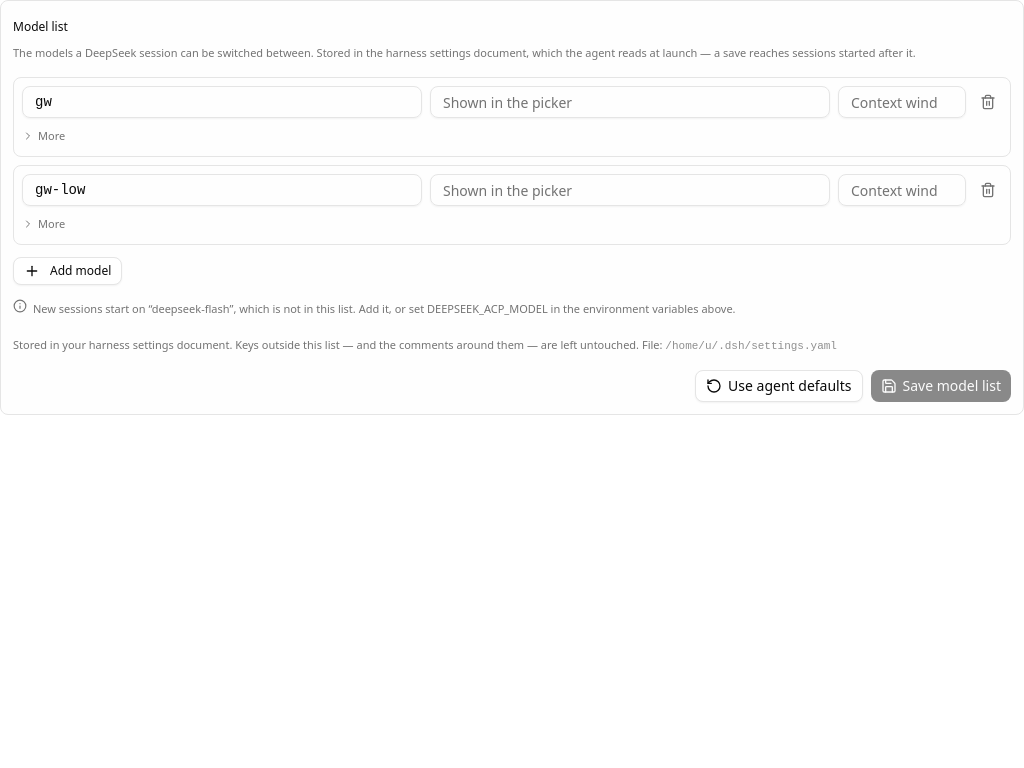
Test case: DeepSeekModelListEditor › shows a named pixel budget as the tier it is, not as an empty box
Click the 2nd button "More": click(44, 224) [22, 212, 65, 236]
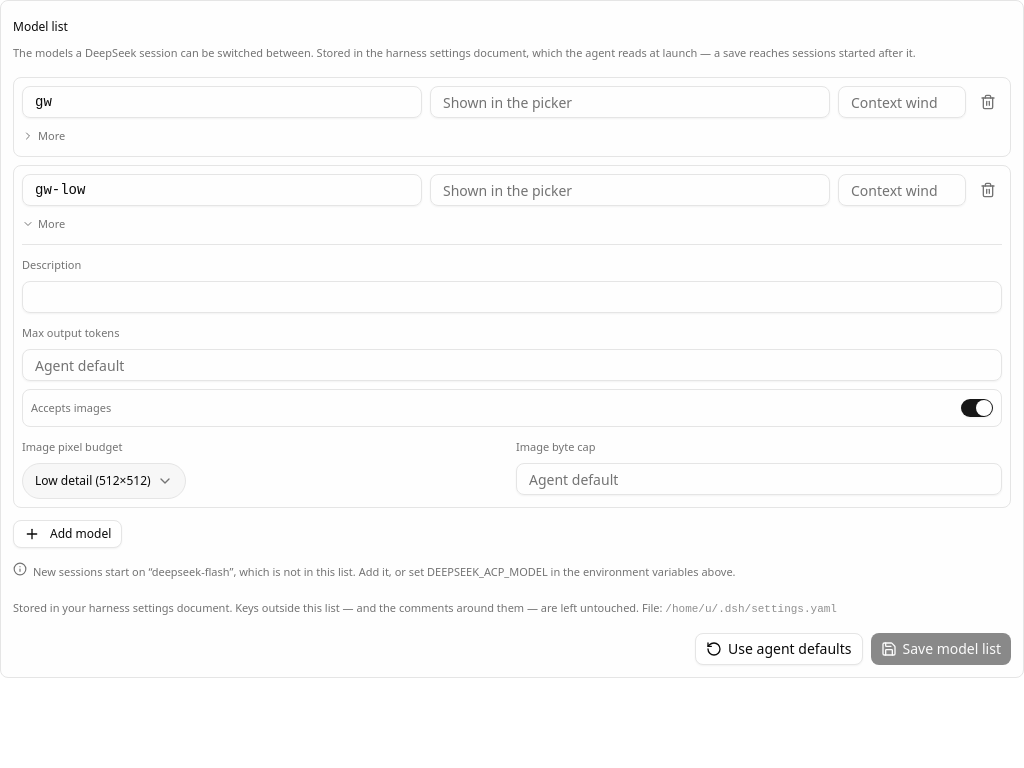
Expected: the text "Low detail (512×512)" is shown, [35, 473, 151, 489]
